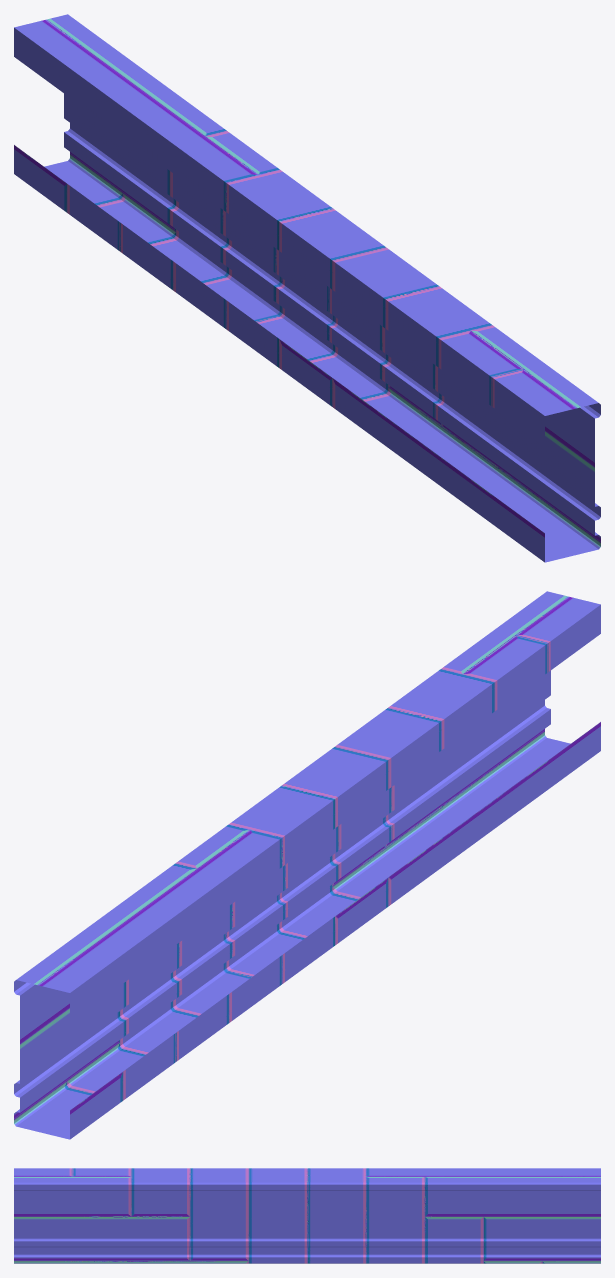
The model's file is Side Paneling End Step.fbx.
3 views of the same model, one above another, from view 1: azimuth 30°, elevation 25°; view 2: azimuth 150°, elevation 25°; view 3: azimuth 270°, elevation 25° (orthographic). The views are drawn at different scales.
Parts seen in each view (by area): view 1: Side_Panel_End_Step; view 2: Side_Panel_End_Step; view 3: Side_Panel_End_Step.
Boxes of the visible parts, x1=… form: Side_Panel_End_Step: x1=14, y1=14, x2=600, y2=562; Side_Panel_End_Step: x1=14, y1=591, x2=600, y2=1139; Side_Panel_End_Step: x1=14, y1=1168, x2=600, y2=1263.
Bounding box in the file's own units: 20 × 50 × 328.
